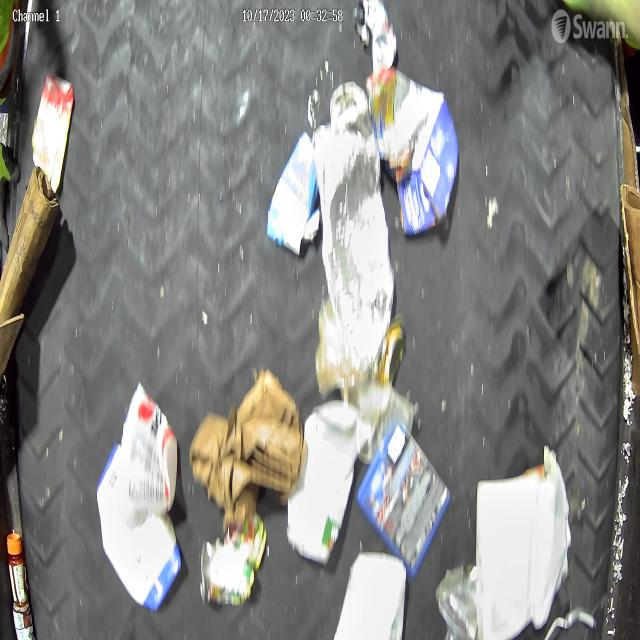can: (200, 542, 256, 608), (355, 0, 397, 73)
non_white_jug: (96, 442, 182, 611), (372, 70, 459, 237)
